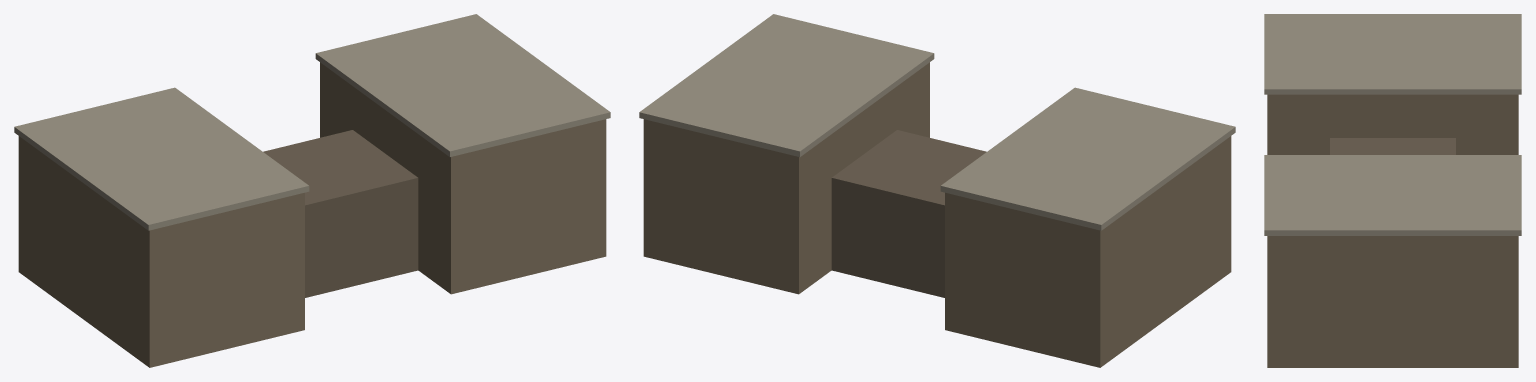
File: zoo-a10810.glb
The picture shows the model from 3 angles, left to right: view 1: azimuth 30°, elevation 25°; view 2: azimuth 150°, elevation 25°; view 3: azimuth 270°, elevation 25°; orthographic projection. The views are drawn at different scales.
Visible parts, largest first — view 1: zoo_a10810; view 2: zoo_a10810; view 3: zoo_a10810.
Part boxes in pixels (bbox=[...]): zoo_a10810: bbox=[14, 14, 610, 367]; zoo_a10810: bbox=[639, 14, 1235, 367]; zoo_a10810: bbox=[1264, 14, 1521, 367].
Bounding box in the file's own units: 16.7 × 5 × 8.4.
